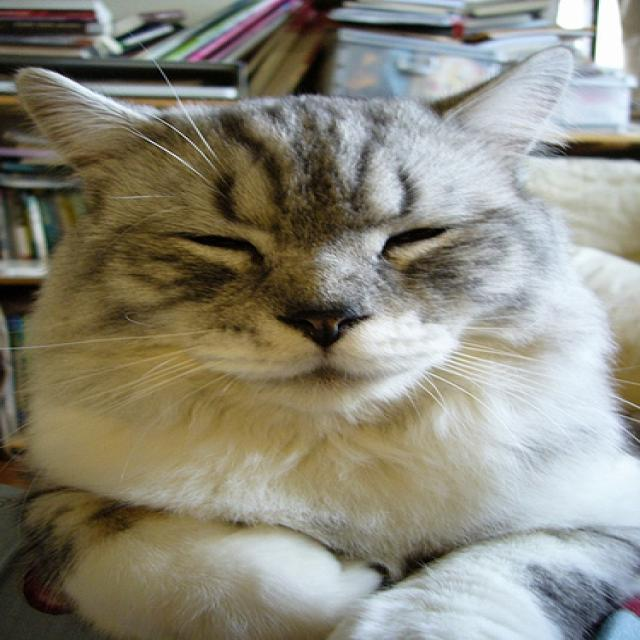left eye: (377, 221, 452, 260)
